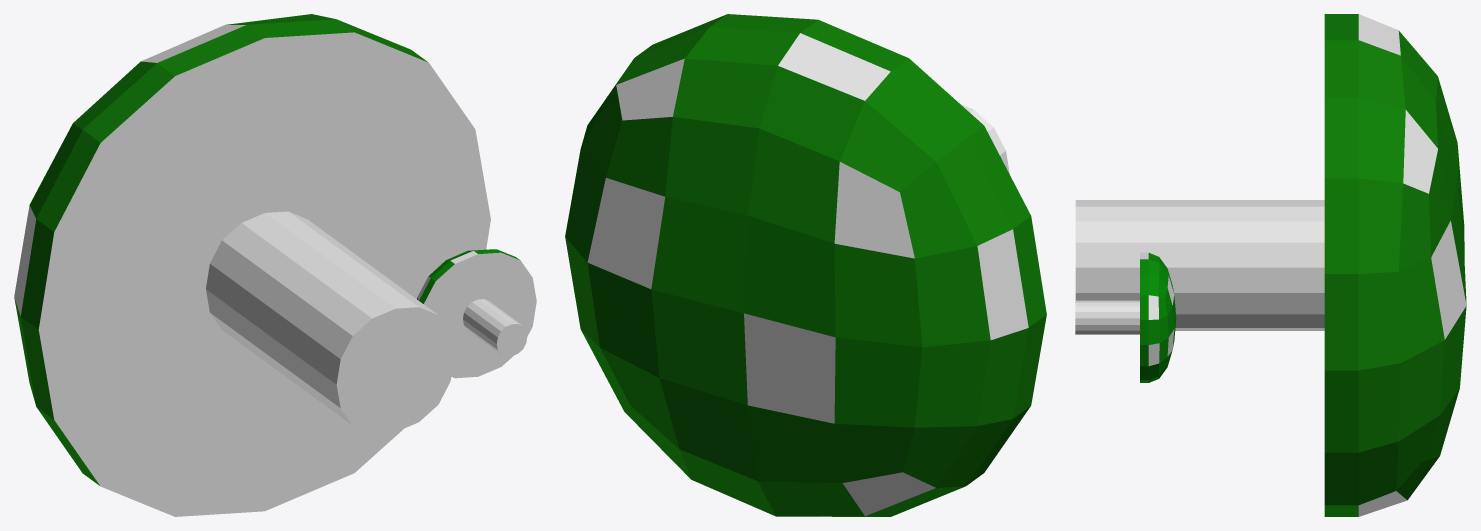
Rendered from fungus_green.fbx.
3 renders of one model, left to right at view 1: azimuth 30°, elevation 25°; view 2: azimuth 150°, elevation 25°; view 3: azimuth 270°, elevation 25°, orthographic. The views are drawn at different scales.
Parts seen in each view (by area): view 1: Fungus_Red; view 2: Fungus_Red; view 3: Fungus_Red.
Boxes of the visible parts, x1=… form: Fungus_Red: x1=14, y1=14, x2=536, y2=516; Fungus_Red: x1=565, y1=14, x2=1046, y2=516; Fungus_Red: x1=1075, y1=14, x2=1466, y2=516.
Size of the model in its own units: 179 by 228 by 228.
